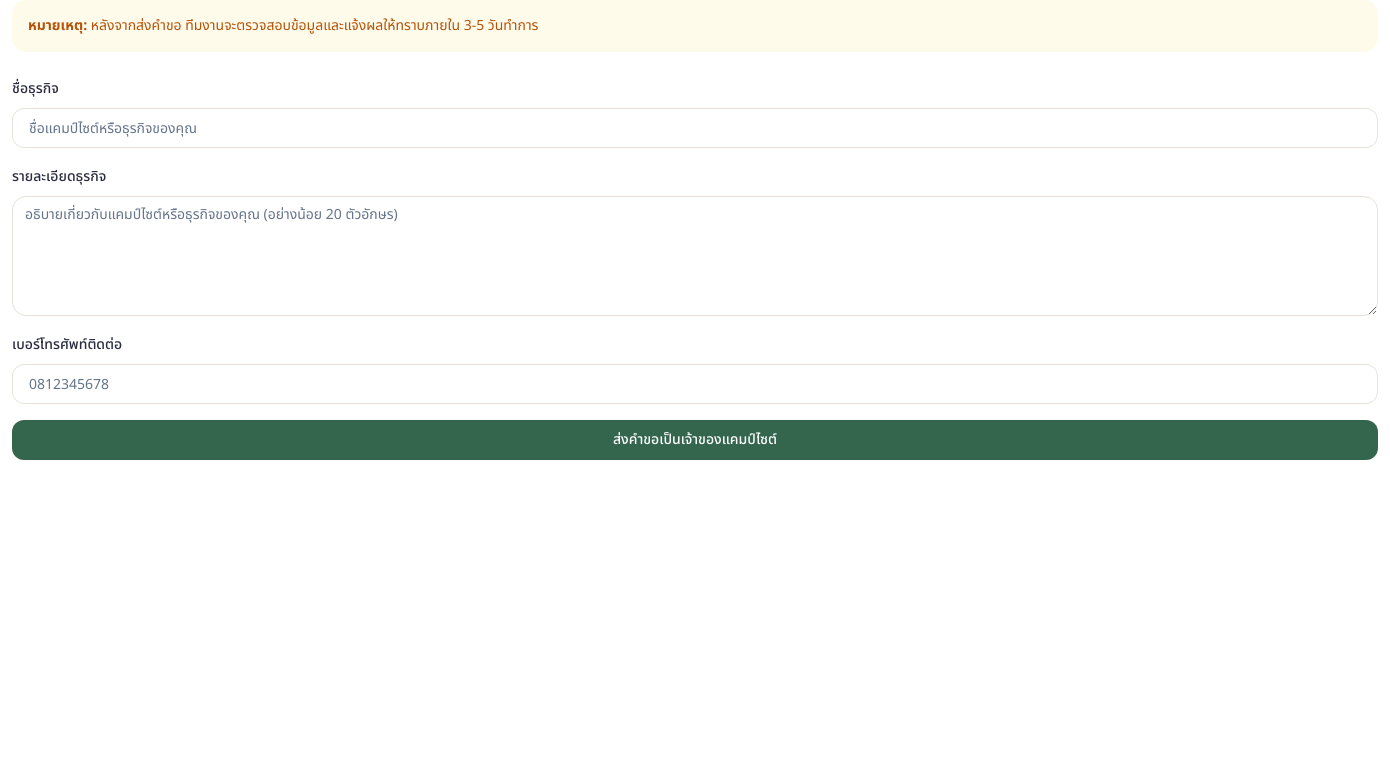
OwnerRequestForm › Validation › shows validation errors for missing required fields
Click the button "ส่งคำขอเป็นเจ้าของแคมป์ไซต์": (695, 440) [12,420,1378,460]
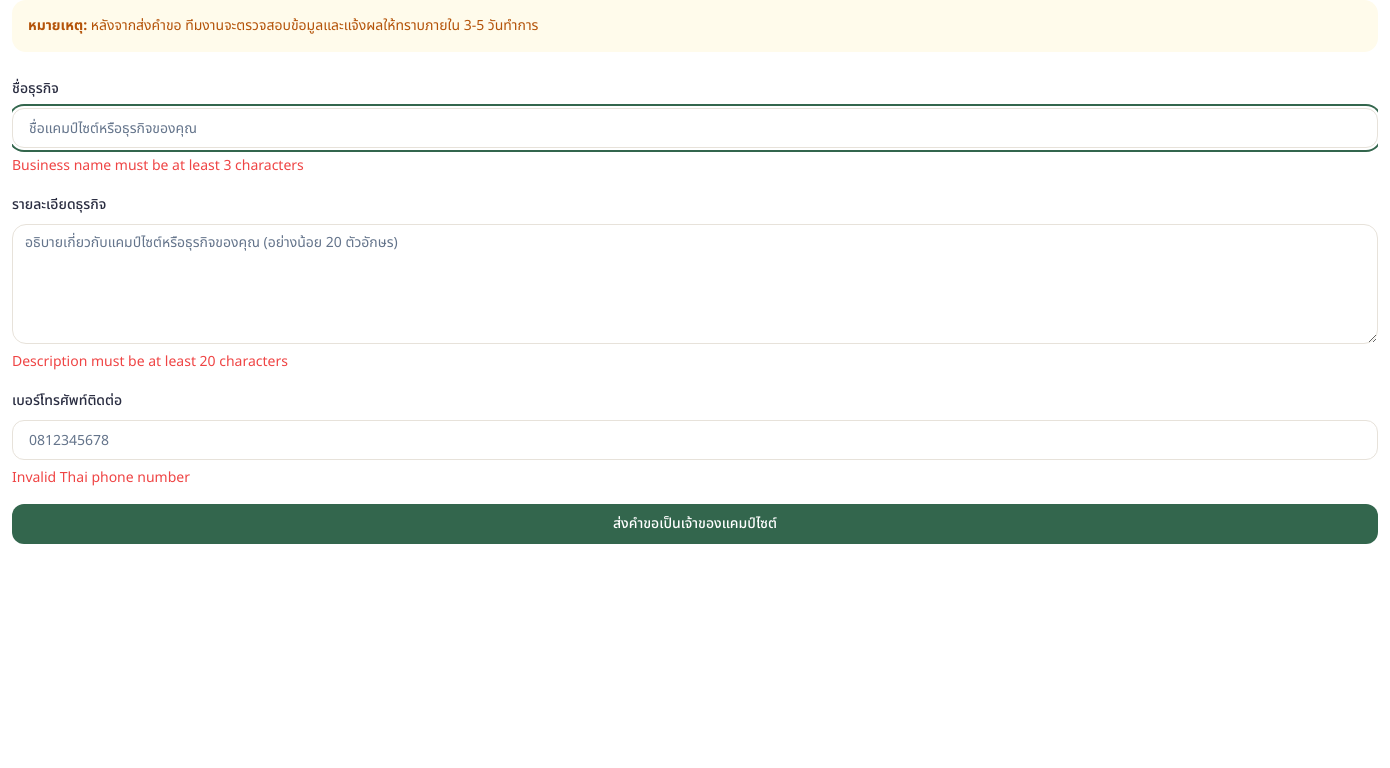
Now the text "Business name must be at least 3 characters" is shown, box [12,155,304,176]
Now the text "Description must be at least 20 characters" is shown, box [12,351,288,372]
Now the text "Invalid Thai phone number" is shown, box [12,467,190,488]
